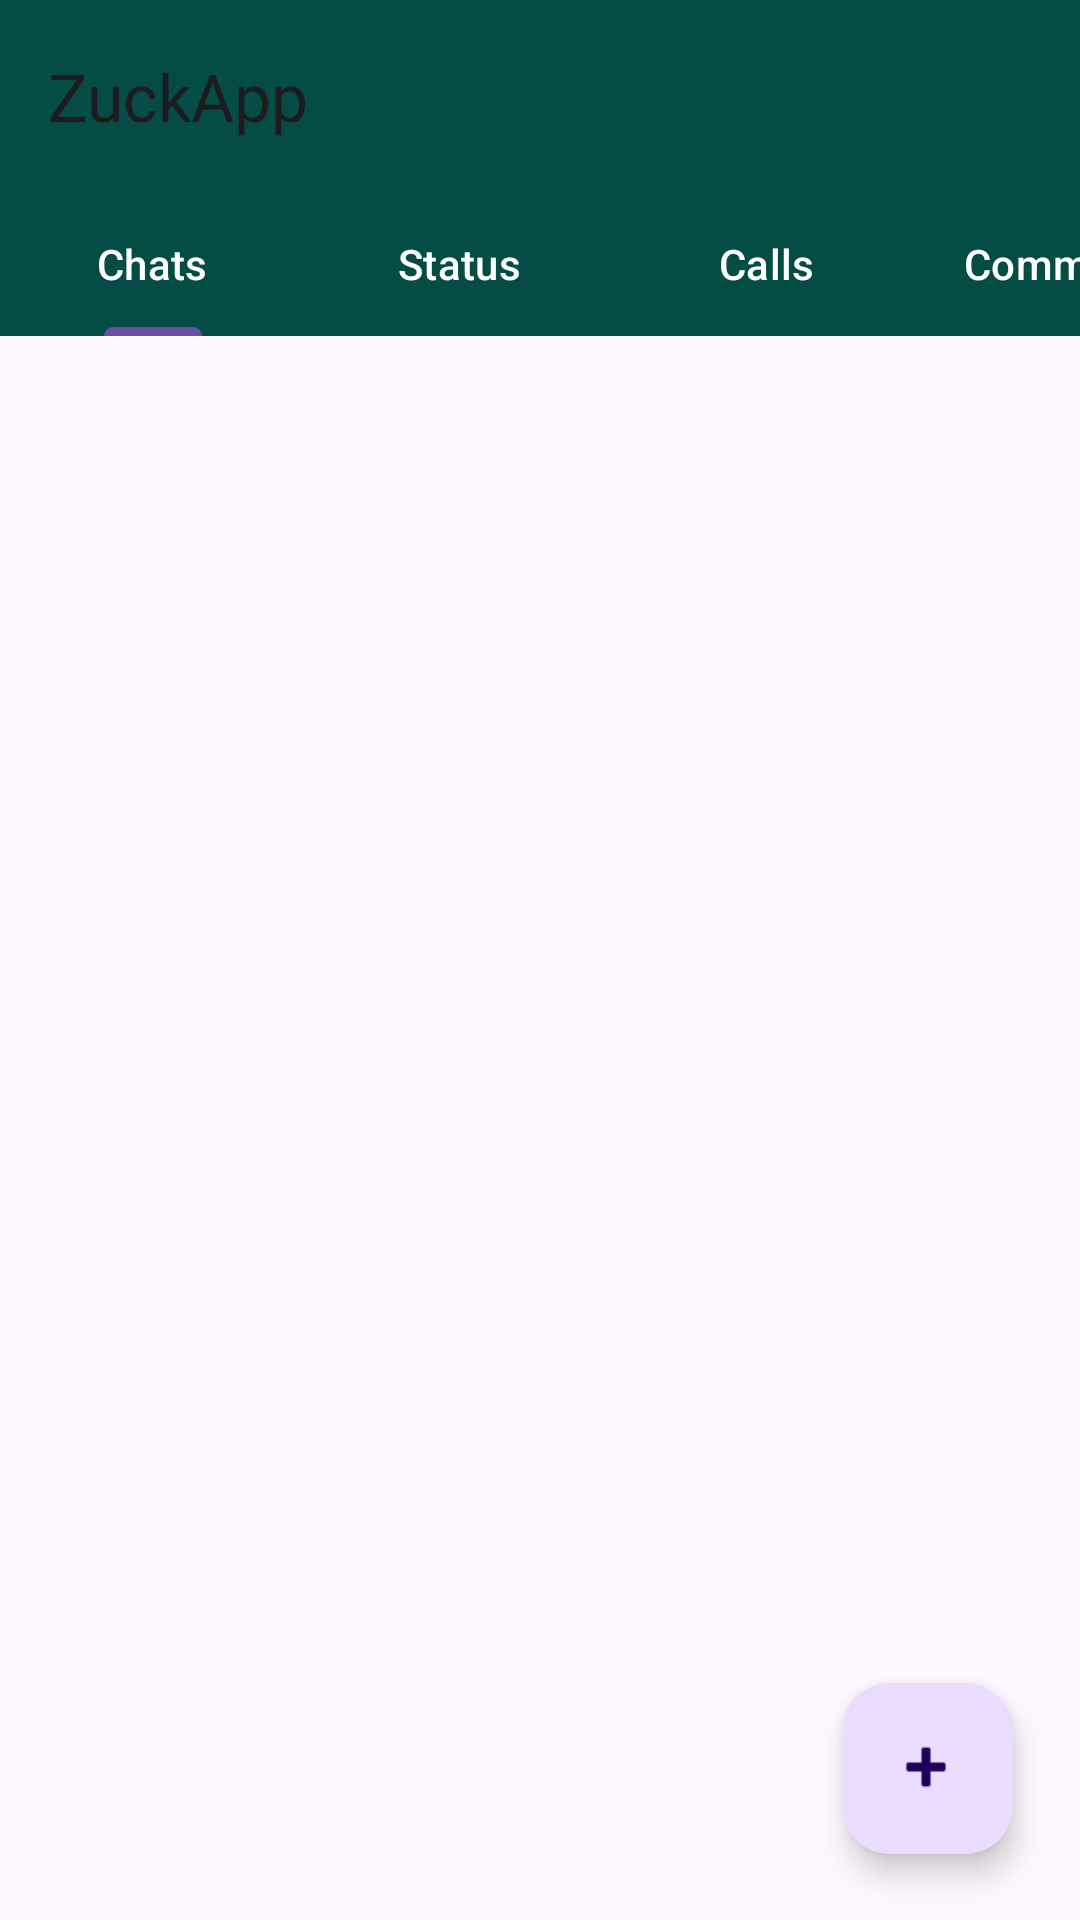

Icons on this 1080w x 1920h Android screen, each with its box as (x1, y1, x2, y2):
add: (842, 1683, 1013, 1854)
